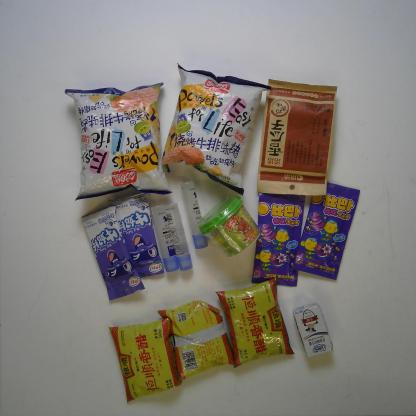Candy: (292, 181, 360, 280), (78, 204, 146, 302), (250, 190, 303, 288), (108, 192, 165, 278)
Dried Food: (255, 77, 340, 197)
Instant Drink: (200, 196, 260, 260)
Milk: (292, 303, 334, 358)
Puffed Food: (159, 62, 273, 196), (62, 79, 172, 203)
Seasoner: (214, 277, 294, 369), (107, 316, 184, 404), (157, 300, 237, 379)
Stationery: (151, 204, 180, 274), (179, 178, 207, 250), (165, 202, 193, 273)
